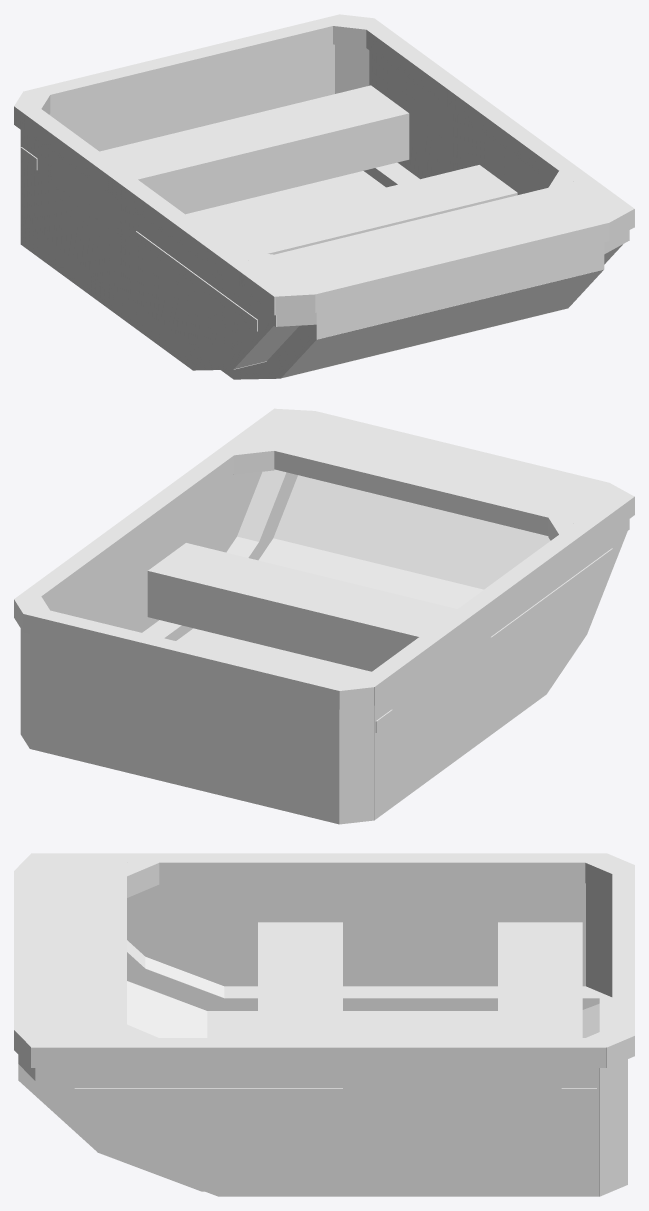
Rendered from aluminum_boat_body.gltf.
3 views of the same model, one above another, from view 1: azimuth 30°, elevation 25°; view 2: azimuth 150°, elevation 25°; view 3: azimuth 270°, elevation 25° (orthographic). The views are drawn at different scales.
Visible parts, largest first — view 1: cube (×43); view 2: cube (×42); view 3: cube (×53).
Part boxes in pixels (x1=…): cube (×43): x1=14, y1=14, x2=633, y2=379; cube (×42): x1=14, y1=410, x2=634, y2=824; cube (×53): x1=14, y1=853, x2=634, y2=1196.
Size of the model in its own units: 2.04 by 0.8 by 2.75.
11 materials, 1 textured.
